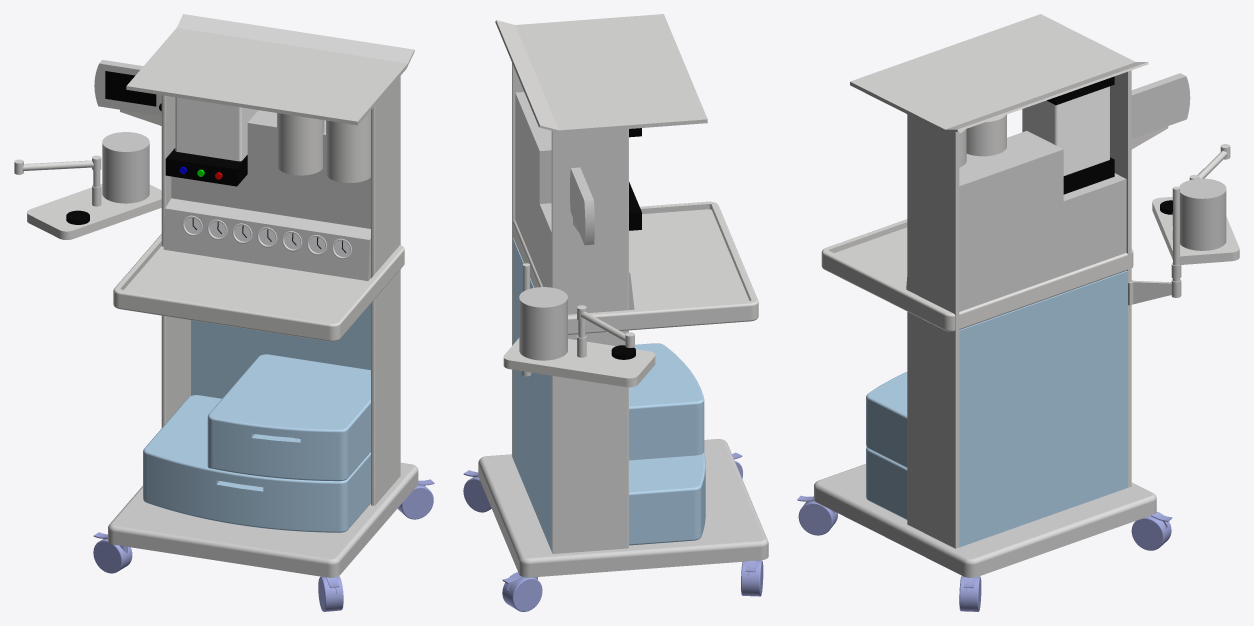
File: anesthesia_tower.fbx
3 renders of one model, left to right at view 1: azimuth 30°, elevation 25°; view 2: azimuth 150°, elevation 25°; view 3: azimuth 270°, elevation 25°, orthographic. The views are drawn at different scales.
Parts seen in each view (by area): view 1: w-Anesthesia_Tower 26" x 26" [226134]; view 2: w-Anesthesia_Tower 26" x 26" [226134]; view 3: w-Anesthesia_Tower 26" x 26" [226134].
Part boxes in pixels (<box>): w-Anesthesia_Tower 26" x 26" [226134]: <box>14,14,434,611</box>; w-Anesthesia_Tower 26" x 26" [226134]: <box>463,14,768,611</box>; w-Anesthesia_Tower 26" x 26" [226134]: <box>797,14,1239,611</box>.
Size of the model in its own units: 96.84 by 140 by 117.
